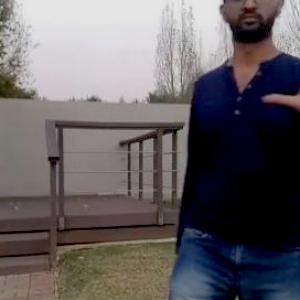land_hand: (250, 26, 300, 137)
